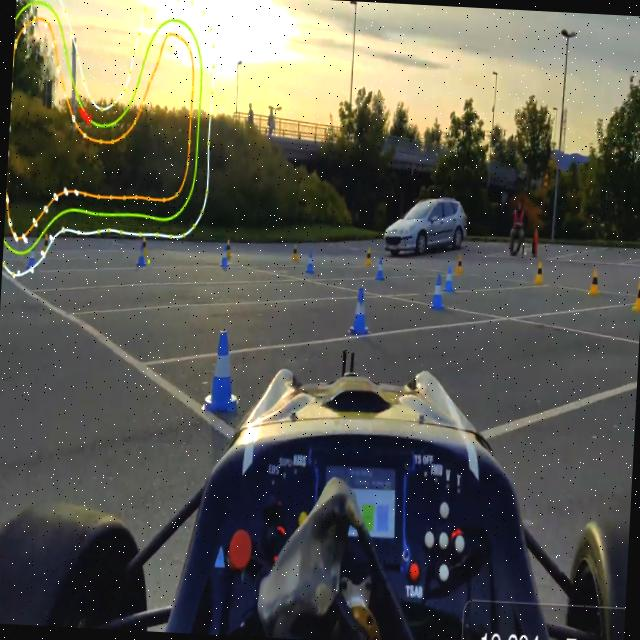blue_cone: (202, 329, 242, 416), (342, 280, 372, 341), (426, 266, 448, 321), (368, 252, 392, 293)
yellow_cone: (584, 258, 604, 298), (532, 250, 546, 288), (630, 268, 640, 316)
